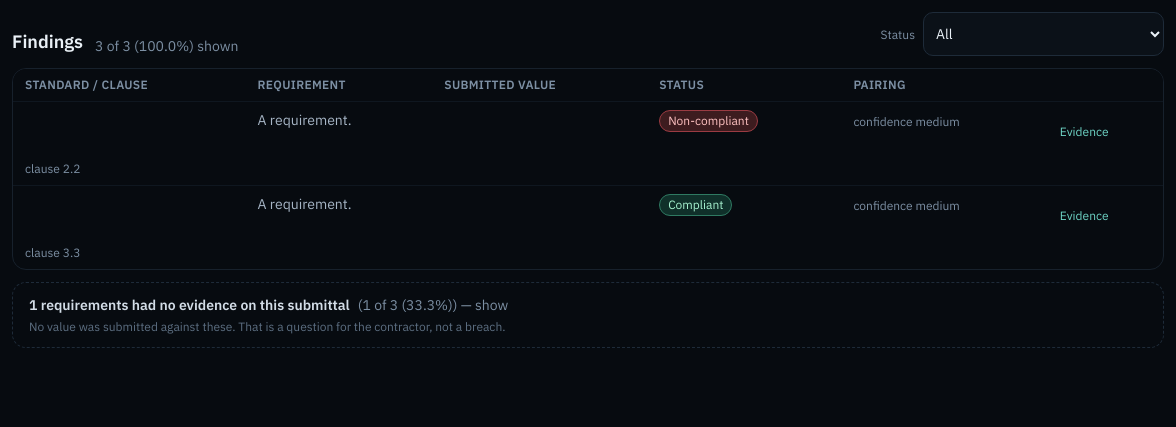
Test case: what a reviewer sees first › puts the row that needs a person above the ones that do not
Click the text "1 requirements had no evidence on this submittal" at (33, 305), box left=29, top=296, right=350, bottom=314
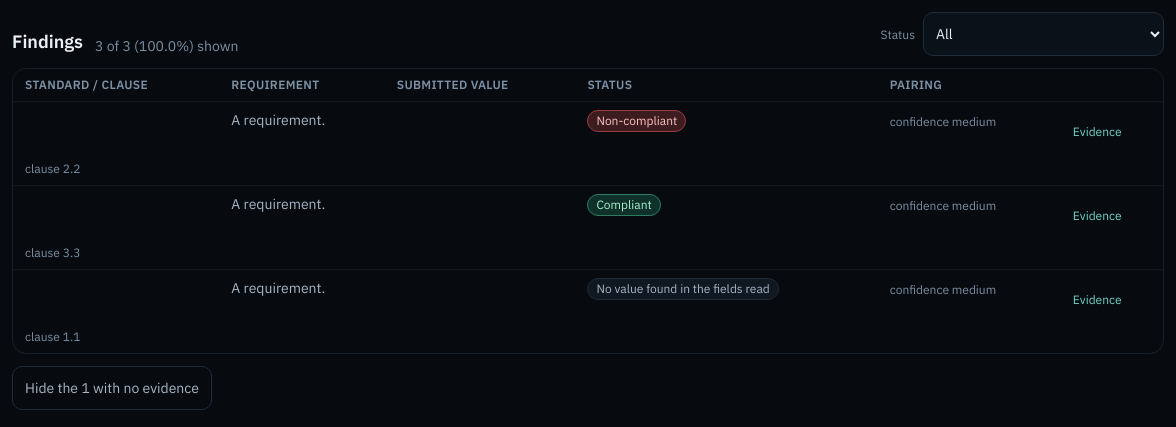
Check: the text "clause 2.2" is shown, box left=25, top=161, right=80, bottom=176
Check: the text "clause 1.1" is shown, box left=25, top=329, right=80, bottom=344
